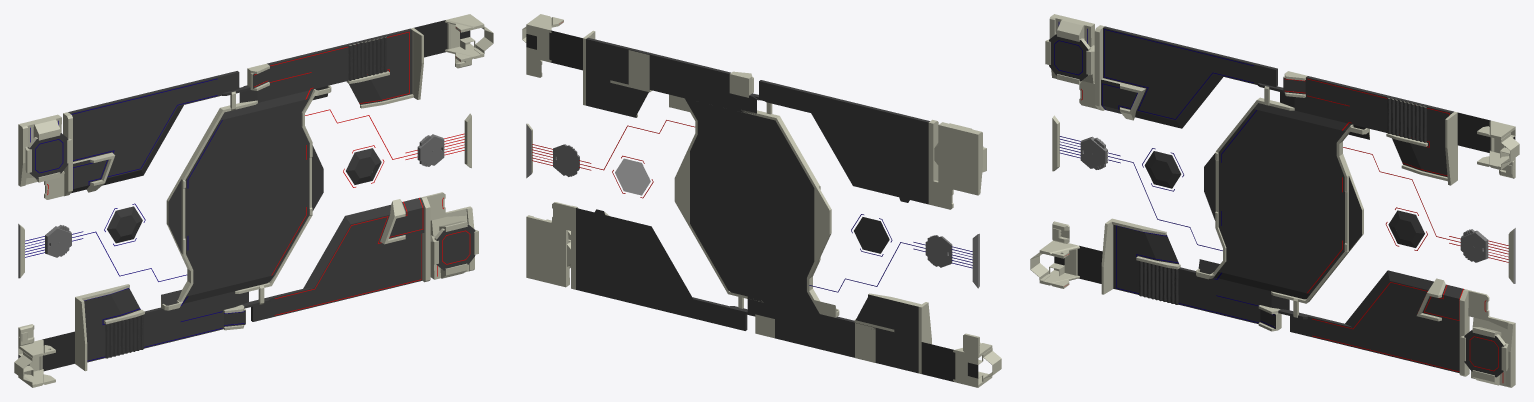
The model's file is arena-static-collision.glb.
The picture shows the model from 3 angles, left to right: view 1: azimuth 30°, elevation 25°; view 2: azimuth 150°, elevation 25°; view 3: azimuth 330°, elevation 25°; orthographic projection. The views are drawn at different scales.
Parts seen in each view (by area): view 1: source_13267205_BREP_1102_1, source_13267016_BREP_215_1, source_13267088_BREP_225_1, source_13267066_BREP_569_1, source_13267161_BREP_1115_1, source_13267210_BREP_227_1_1, source_13267210_BREP_227_1, graft_141103_BREP_220, source_13267175_BREP_572_1, source_13267077_BREP_577_1, graft_128896_BREP_192, source_13267080_BREP_544_1 (+22 smaller); view 2: source_13267205_BREP_1102_1, source_13267088_BREP_225_1, source_13267016_BREP_215_1, source_13267066_BREP_569_1, source_13267161_BREP_1115_1, source_13267210_BREP_227_1_1, source_13267080_BREP_544_1, source_13267178_BREP_542_1, source_13267210_BREP_227_1, source_13267174_BREP_571_1, source_13267320_BREP_590_1_1, source_13267320_BREP_590_1 (+13 smaller); view 3: source_13267205_BREP_1102_1, source_13267088_BREP_225_1, source_13267016_BREP_215_1, source_13267161_BREP_1115_1, source_13267066_BREP_569_1, source_13267210_BREP_227_1, source_13267210_BREP_227_1_1, graft_141103_BREP_220, source_13267175_BREP_572_1, source_13267077_BREP_577_1, graft_128896_BREP_192, source_13267080_BREP_544_1 (+22 smaller).
Boxes of the visible parts, left/top/right/bottom form: source_13267205_BREP_1102_1: left=183, top=89, right=313, bottom=303; source_13267016_BREP_215_1: left=242, top=197, right=424, bottom=321; source_13267088_BREP_225_1: left=68, top=71, right=250, bottom=193; source_13267066_BREP_569_1: left=239, top=28, right=413, bottom=108; source_13267161_BREP_1115_1: left=78, top=284, right=248, bottom=362; source_13267210_BREP_227_1_1: left=161, top=100, right=257, bottom=310; source_13267210_BREP_227_1: left=235, top=85, right=331, bottom=293; graft_141103_BREP_220: left=348, top=36, right=387, bottom=80; source_13267175_BREP_572_1: left=27, top=132, right=68, bottom=179; source_13267077_BREP_577_1: left=434, top=224, right=475, bottom=270; graft_128896_BREP_192: left=105, top=314, right=143, bottom=358; source_13267080_BREP_544_1: left=426, top=192, right=468, bottom=279; source_13267205_BREP_1102_1: left=685, top=98, right=819, bottom=313; source_13267088_BREP_225_1: left=749, top=80, right=929, bottom=204; source_13267016_BREP_215_1: left=576, top=208, right=755, bottom=330; source_13267066_BREP_569_1: left=586, top=37, right=756, bottom=117; source_13267161_BREP_1115_1: left=747, top=293, right=921, bottom=373; source_13267210_BREP_227_1_1: left=741, top=110, right=839, bottom=317; source_13267080_BREP_544_1: left=531, top=202, right=571, bottom=287; source_13267178_BREP_542_1: left=933, top=122, right=976, bottom=209; source_13267210_BREP_227_1: left=669, top=94, right=763, bottom=302; source_13267174_BREP_571_1: left=934, top=123, right=986, bottom=180; source_13267320_BREP_590_1_1: left=921, top=342, right=978, bottom=381; source_13267320_BREP_590_1: left=526, top=30, right=582, bottom=70; source_13267205_BREP_1102_1: left=1214, top=103, right=1351, bottom=299; source_13267088_BREP_225_1: left=1101, top=26, right=1284, bottom=128; source_13267016_BREP_215_1: left=1278, top=270, right=1464, bottom=373; source_13267161_BREP_1115_1: left=1112, top=219, right=1289, bottom=323; source_13267066_BREP_569_1: left=1280, top=76, right=1453, bottom=181; source_13267210_BREP_227_1: left=1271, top=124, right=1369, bottom=303; source_13267210_BREP_227_1_1: left=1196, top=97, right=1294, bottom=279; graft_141103_BREP_220: left=1387, top=97, right=1426, bottom=142; source_13267175_BREP_572_1: left=1049, top=34, right=1090, bottom=81; source_13267077_BREP_577_1: left=1464, top=329, right=1505, bottom=377; graft_128896_BREP_192: left=1139, top=261, right=1178, bottom=304; source_13267080_BREP_544_1: left=1468, top=290, right=1509, bottom=386.
Size of the model in its own units: 29.15 by 15.02 by 1.53.
